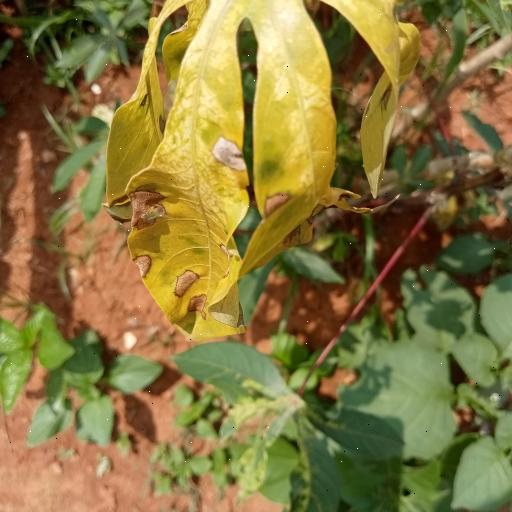Cassava_Brown_Leaf_Spot: (108, 0, 419, 340)
